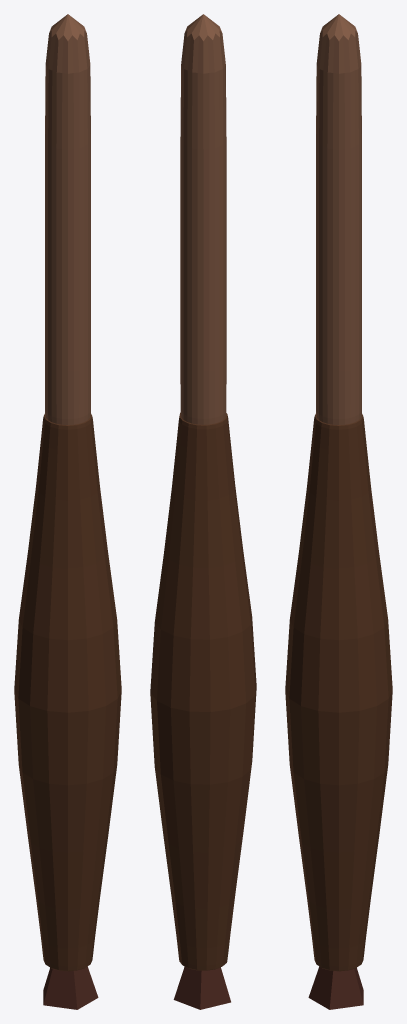
Rendered from Wand 118.glb.
3 views of the same model, side by side, from view 1: azimuth 90°, elevation 25°; view 2: azimuth 210°, elevation 25°; view 3: azimuth 270°, elevation 25° (orthographic).
Visible parts, largest first — view 1: GeneratedWand; view 2: GeneratedWand; view 3: GeneratedWand.
Boxes of the visible parts, x1,y1,x2,y2 form: GeneratedWand: (14, 14, 121, 1009); GeneratedWand: (150, 14, 256, 1009); GeneratedWand: (285, 14, 392, 1009).
Size of the model in its own units: 0.0499 by 0.503 by 0.0499.
